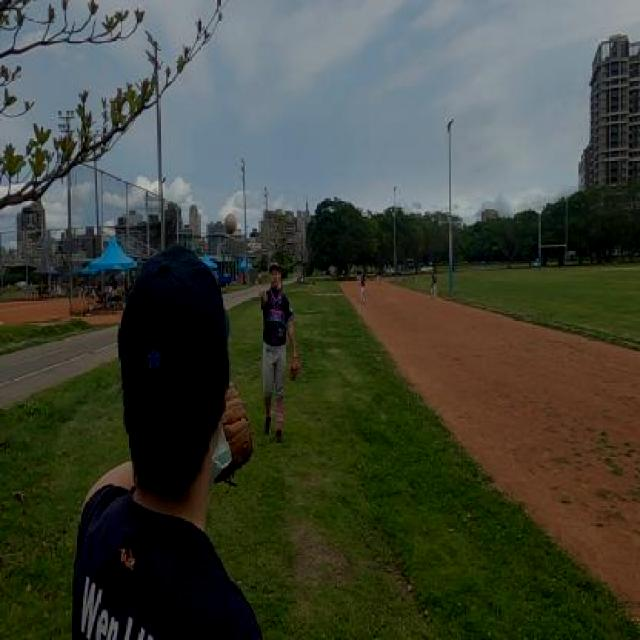ball: (222, 210, 240, 236)
